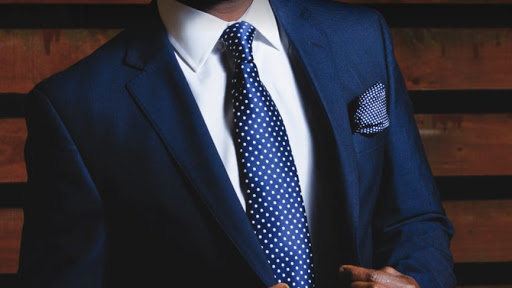tie: (203, 16, 323, 280)
